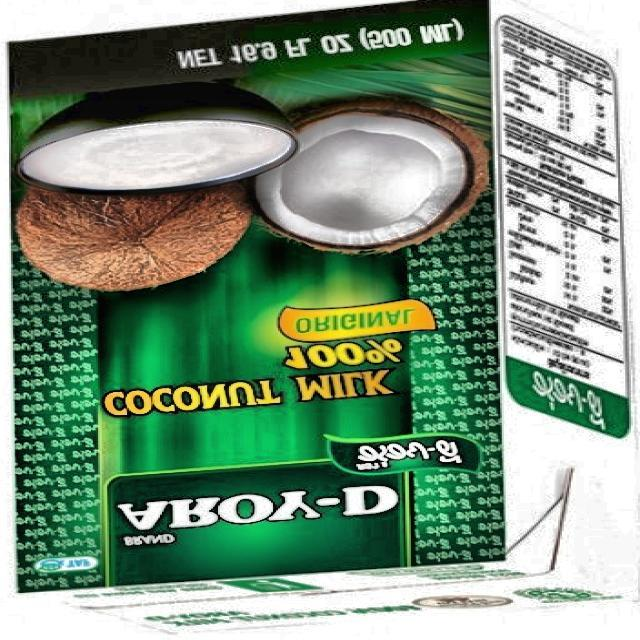cardboard: (3, 1, 640, 636)
